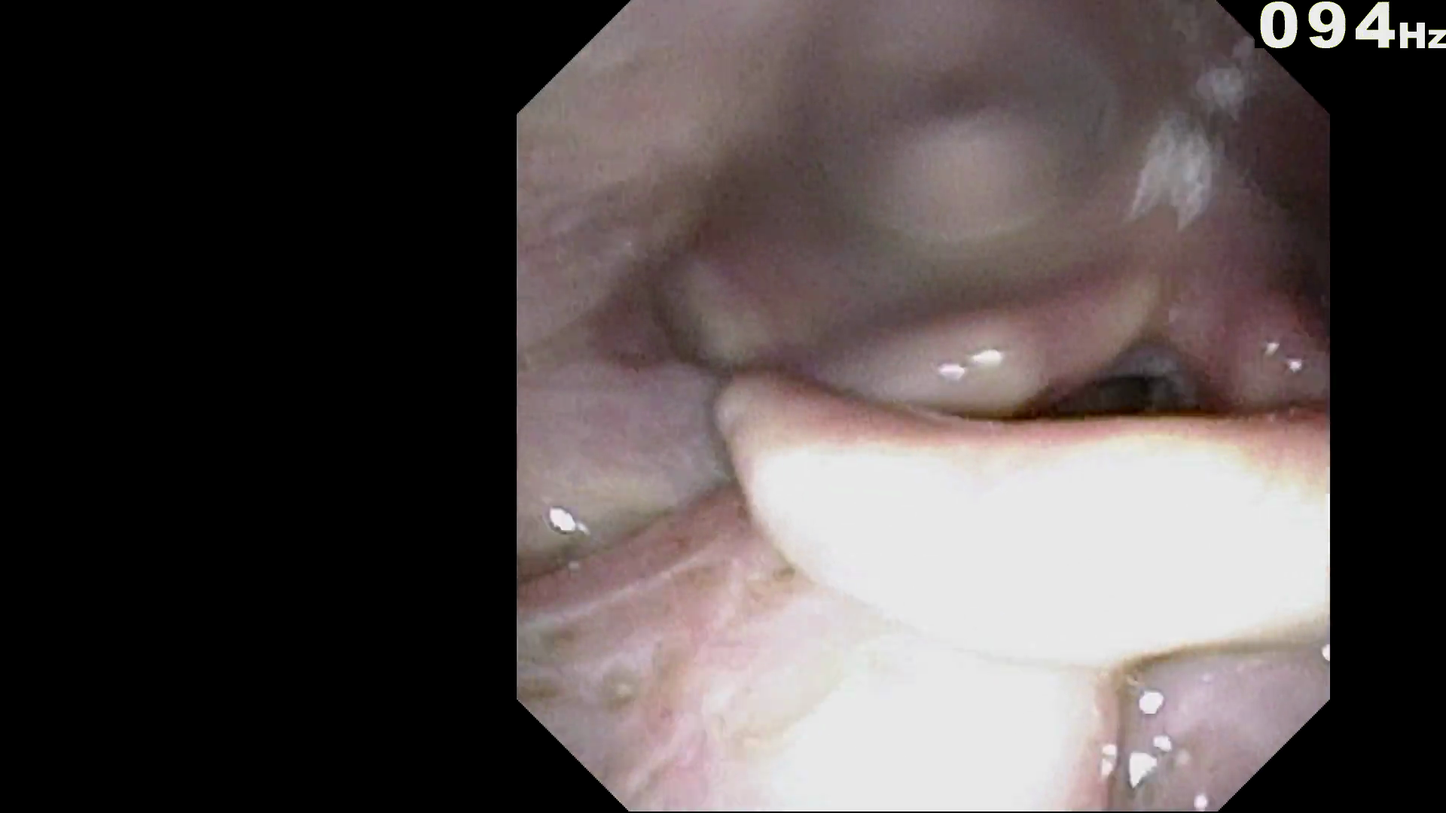epiglottis: (763, 406, 1306, 631)
trachea: (1055, 376, 1157, 460)
